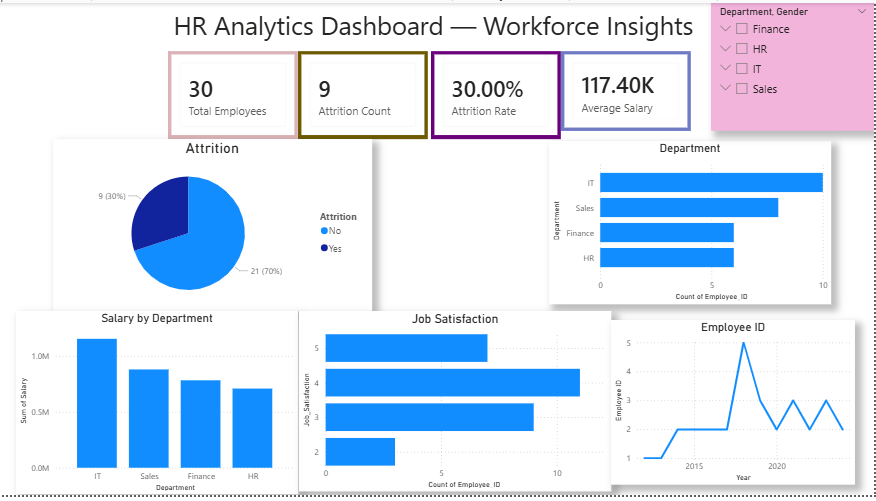

What the dashboard file says about the page in this screenshot:
{"tool":"powerbi","page":{"name":"Page 1","canvas":[1280,720],"ordinal":0},"visuals":[{"type":"cardVisual","fields":{"Data":["HR Data.Total Employees"]},"box":[245.9,70.2,190.2,128.8],"z":0},{"type":"cardVisual","fields":{"Data":["HR Data.Attrition Count"]},"box":[436.1,70.2,190.2,128.8],"z":1000},{"type":"cardVisual","fields":{"Data":["HR Data.Attrition Rate"]},"box":[630.7,70.2,190.2,128.8],"z":2000},{"type":"cardVisual","fields":{"Data":["HR Data.Average Salary"]},"box":[821,70.2,190.2,117.1],"z":3000},{"type":"pieChart","title":" Attrition","fields":{"Category":["HR Data.Attrition"],"Y":["CountNonNull(HR Data.Employee_ID)"]},"box":[77.1,199.6,466.6,251.9],"z":4000},{"type":"clusteredBarChart","title":" Department","fields":{"Category":["HR Data.Department"],"Y":["CountNonNull(HR Data.Employee_ID)"]},"box":[803.4,202,412.7,238.5],"z":5000},{"type":"columnChart","title":" Salary by Department","fields":{"Category":["HR Data.Department"],"Y":["Sum(HR Data.Salary)"]},"box":[23.4,451.4,412.9,268.4],"z":6000},{"type":"barChart","title":" Job Satisfaction  ","fields":{"Y":["CountNonNull(HR Data.Employee_ID)"],"Category":["HR Data.Job_Satisfaction"]},"box":[437.7,451.4,456.9,264.3],"z":7000},{"type":"lineChart","title":"Employee ID  ","fields":{"Category":["HR Data.Hire_Date.Variation.Date Hierarchy.Year","HR Data.Hire_Date.Variation.Date Hierarchy.Quarter","HR Data.Hire_Date.Variation.Date Hierarchy.Month","HR Data.Hire_Date.Variation.Date Hierarchy.Day"],"Y":["CountNonNull(HR Data.Employee_ID)"]},"box":[894.1,463.9,357.1,241.5],"z":8000},{"type":"slicer","title":"[ Department Filter ] [ Gender Filter ]","fields":{"Values":["HR Data.Department","HR Data.Gender"]},"box":[1040.5,0,240,187.3],"z":9000},{"type":"textbox","box":[248.8,1.5,781.5,68.8],"z":10000}]}

Visuals, with their boxes in screenshot pixels (x1, y1, x2, y2), scaled from the page's 1280x720 canvas onto the 876x501 screenshot:
cardVisual - HR Data.Total Employees: 168:49:298:138
cardVisual - HR Data.Attrition Count: 298:49:429:138
cardVisual - HR Data.Attrition Rate: 432:49:562:138
cardVisual - HR Data.Average Salary: 562:49:692:130
" Attrition" pieChart: 53:139:372:314
" Department" clusteredBarChart: 550:141:832:307
" Salary by Department" columnChart: 16:314:299:500
" Job Satisfaction  " barChart: 300:314:612:498
"Employee ID  " lineChart: 612:323:856:491
"[ Department Filter ] [ Gender Filter ]" slicer: 712:0:875:130
textbox: 170:1:705:49
